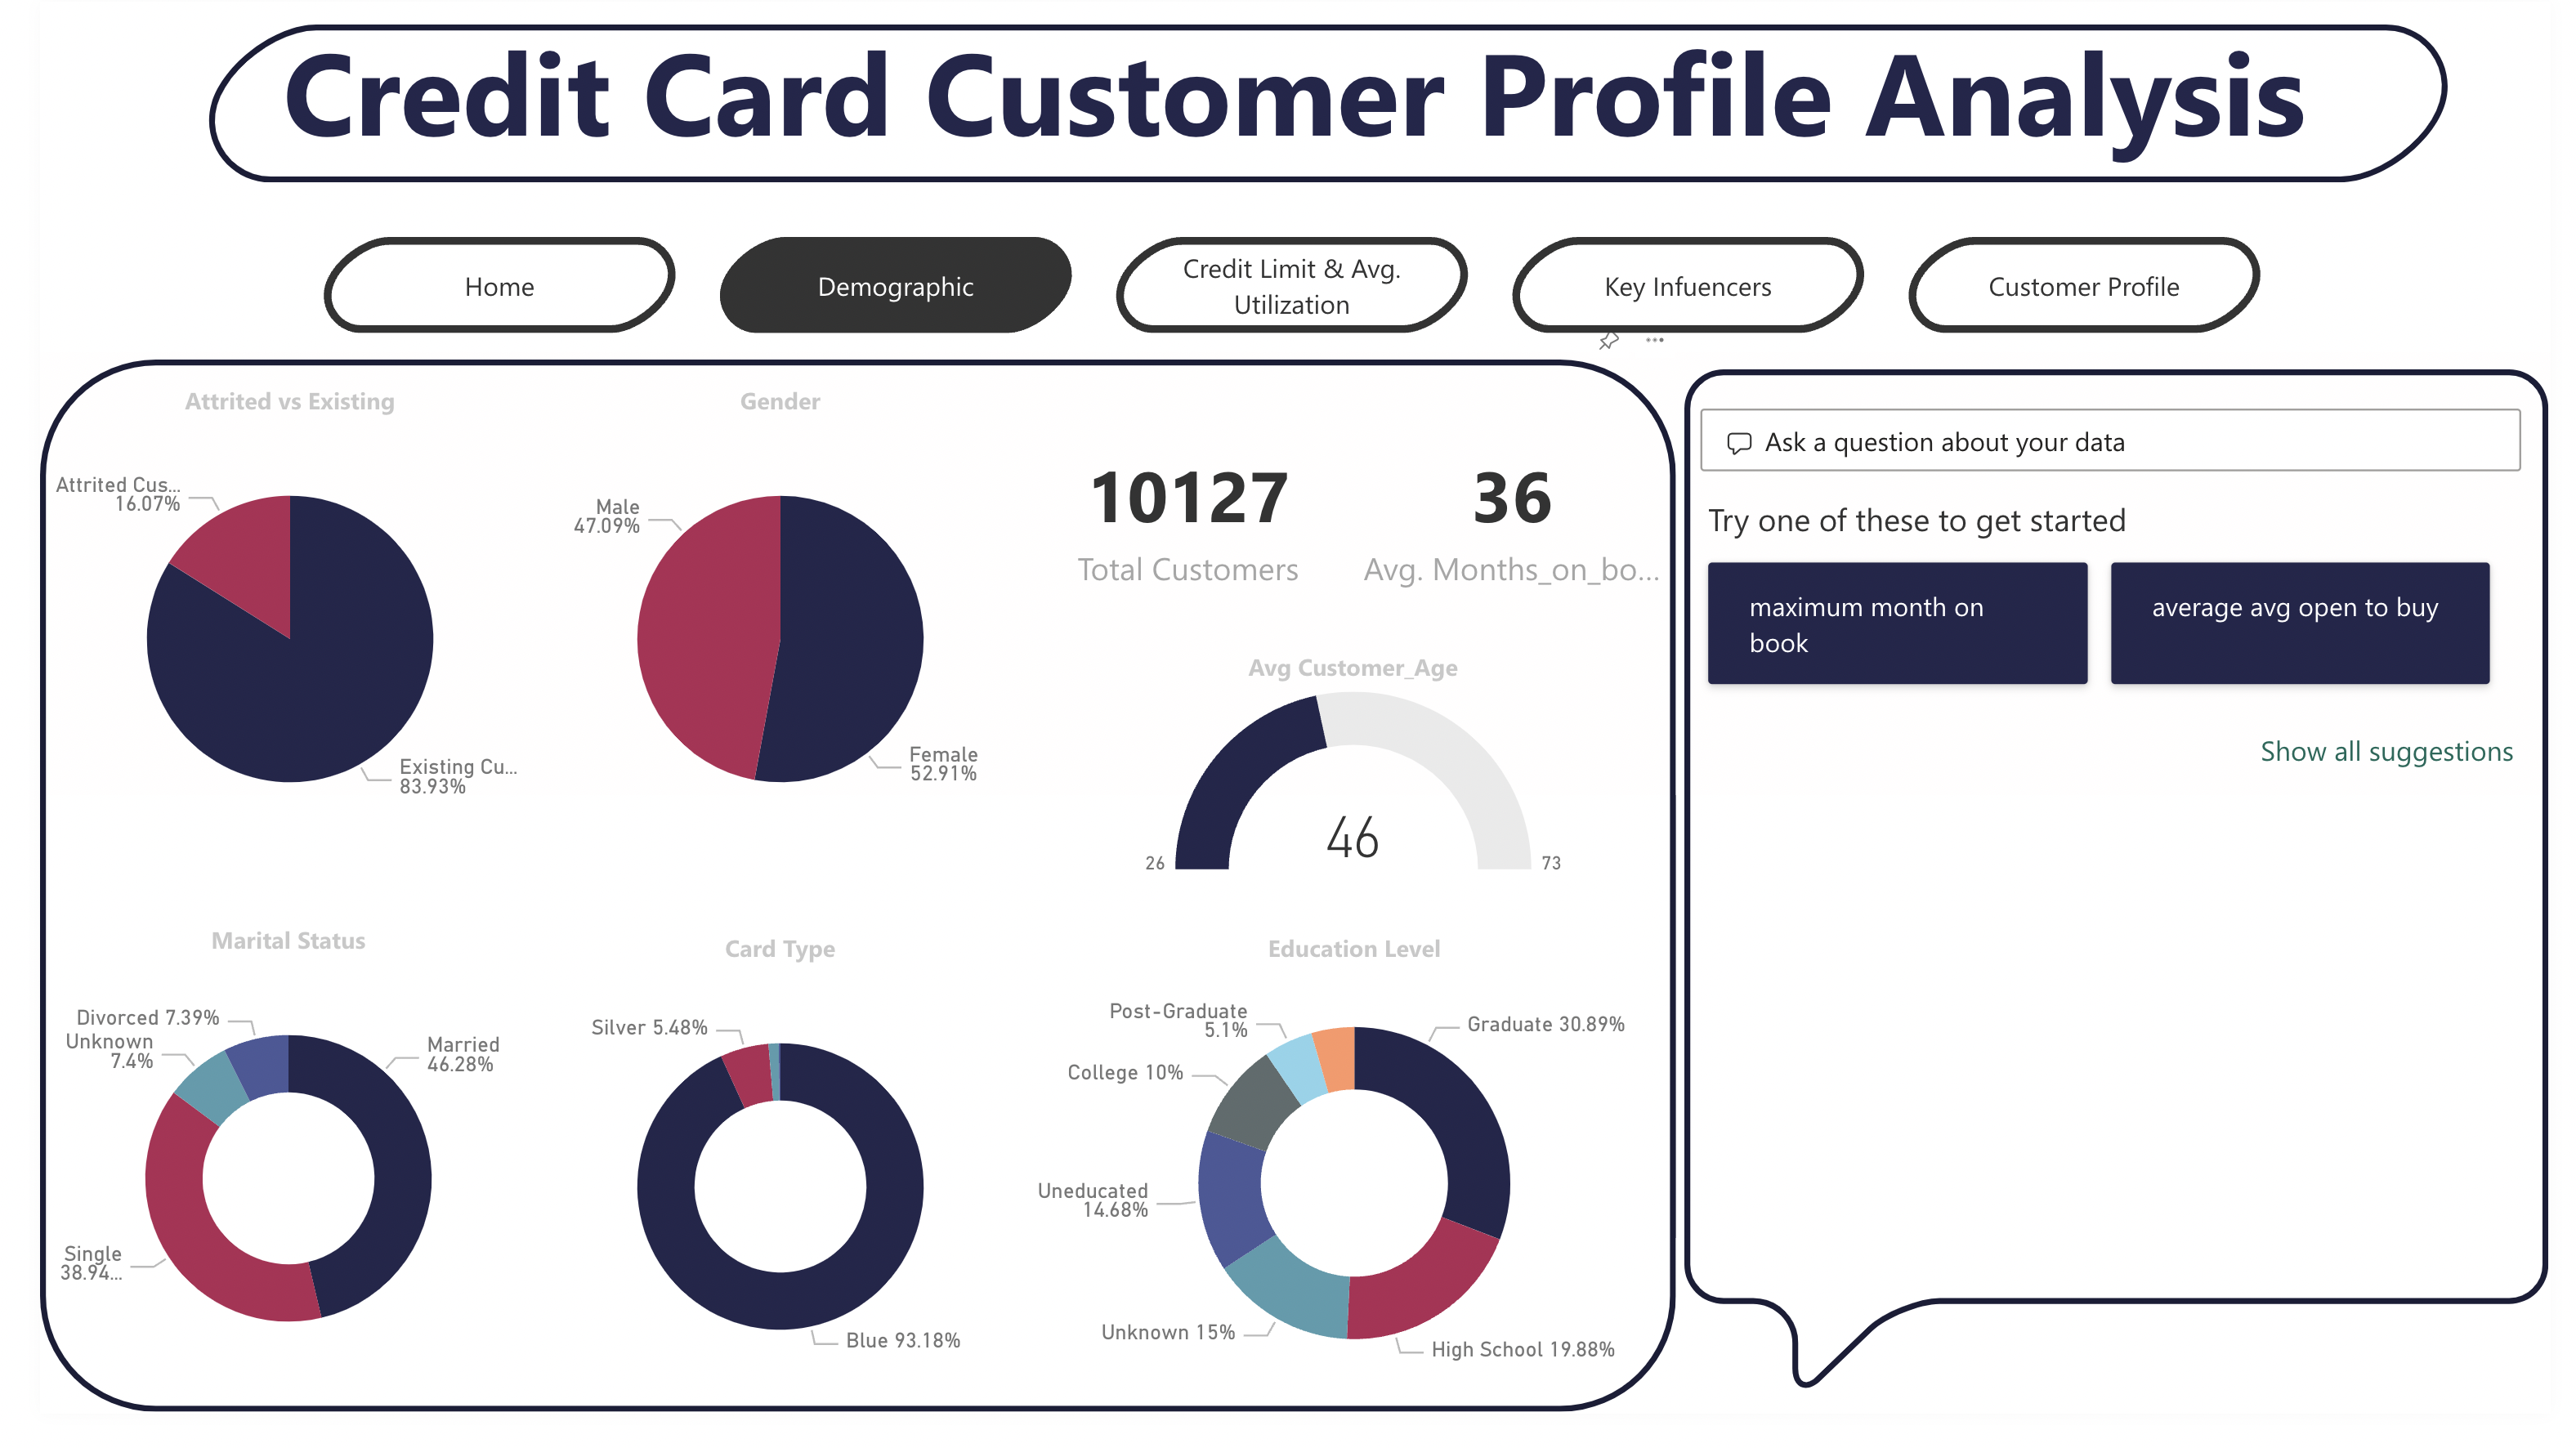

What the dashboard file says about the page in this screenshot:
{"tool":"powerbi","page":{"name":"Demographic","canvas":[1280,720],"ordinal":1},"visuals":[{"type":"shape","box":[75.7,12,1162.1,80.3],"z":0,"group":"g2"},{"type":"shape","title":"Basic","box":[0,182.9,834.1,536.6],"z":0,"group":"g4"},{"type":"group","id":"g1","title":"Group 5","box":[837.4,182.9,440.9,534.9],"z":0},{"type":"shape","box":[838,188.3,440.4,529.5],"z":0,"group":"g1"},{"type":"gauge","title":"Avg Customer_Age","fields":{"Y":["Avg(BankChurners.Customer_Age)"],"MinValue":["Min(BankChurners.Customer_Age)"],"MaxValue":["Max(BankChurners.Customer_Age)"]},"box":[503.3,331.3,332.3,121.7],"z":0,"group":"g3"},{"type":"textbox","box":[0,0,1279,119.6],"z":500,"group":"g2"},{"type":"group","id":"g2","title":"Group 3","box":[0,0,1279,119.6],"z":1000},{"type":"qnaVisual","box":[837.4,182.9,436.7,482.8],"z":1000,"group":"g1"},{"type":"group","id":"g3","title":"Group 2","box":[1.4,195.2,835.5,522.8],"z":1000,"group":"g4"},{"type":"pieChart","title":"Attrited vs Existing","fields":{"Y":["CountNonNull(BankChurners.Attrition_Flag)"],"Category":["BankChurners.Attrition_Flag"]},"box":[2.6,195.2,249.9,243.8],"z":1000,"group":"g3"},{"type":"group","id":"g4","title":"Group 8","box":[0,182.9,836.9,536.6],"z":2000},{"type":"pieChart","title":"Gender","fields":{"Category":["BankChurners.Gender"],"Y":["CountNonNull(BankChurners.Gender)"]},"box":[252.5,195.6,249.9,243.8],"z":2000,"group":"g3"},{"type":"pageNavigator","box":[138.4,119.6,1001.4,49.6],"z":3000},{"type":"donutChart","title":"Education Level","fields":{"Category":["BankChurners.Education_Level"],"Y":["CountNonNull(BankChurners.Education_Level)"]},"box":[503.3,474,333.7,240.5],"z":3000,"group":"g3"},{"type":"donutChart","title":"Marital Status","fields":{"Y":["CountNonNull(BankChurners.Marital_Status)"],"Category":["BankChurners.Marital_Status"]},"box":[1.4,470.5,249.9,243.8],"z":4000,"group":"g3"},{"type":"card","fields":{"Values":["CountNonNull(BankChurners.Attrition_Flag)"]},"box":[501.5,205.2,167.5,114.5],"z":5000,"group":"g3"},{"type":"card","fields":{"Values":["Avg(BankChurners.Months_on_book)"]},"box":[667.2,205.2,165.8,114.5],"z":6000,"group":"g3"},{"type":"donutChart","title":"Card Type","fields":{"Y":["CountNonNull(BankChurners.Card_Category)"],"Category":["BankChurners.Card_Category"]},"box":[252.5,474.2,249.9,243.8],"z":7000,"group":"g3"}]}

Visuals, with their boxes in screenshot pixels (x1, y1, x2, y2), scaled from the page's 1280x720 canvas onto the 2576x1448 screenshot:
shape: 152:25:2491:185
"Basic" shape: 0:368:1679:1447
"Group 5" group: 1685:368:2573:1444
shape: 1687:378:2573:1444
"Avg Customer_Age" gauge: 1013:666:1682:911
textbox: 0:0:2574:240
"Group 3" group: 0:0:2574:240
qnaVisual: 1685:368:2564:1339
"Group 2" group: 2:392:1684:1444
"Attrited vs Existing" pieChart: 5:392:508:883
"Group 8" group: 0:368:1684:1447
"Gender" pieChart: 508:393:1011:883
pageNavigator: 279:240:2294:340
"Education Level" donutChart: 1013:954:1684:1437
"Marital Status" donutChart: 2:946:506:1437
card - CountNonNull(BankChurners.Attrition_Flag): 1009:413:1346:643
card - Avg(BankChurners.Months_on_book): 1343:413:1676:643
"Card Type" donutChart: 508:954:1011:1444
